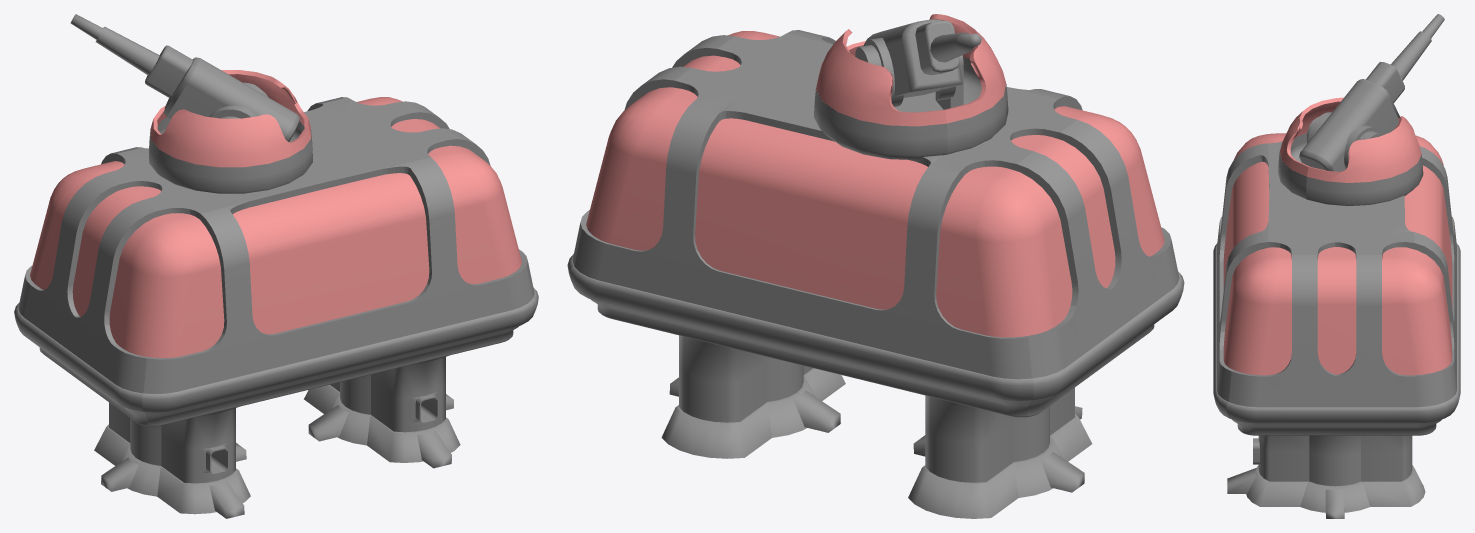
File: LaserStation_01.gltf
The picture shows the model from 3 angles, left to right: view 1: azimuth 30°, elevation 25°; view 2: azimuth 150°, elevation 25°; view 3: azimuth 270°, elevation 25°; orthographic projection. The views are drawn at different scales.
Parts seen in each view (by area): view 1: LaserStation_01; view 2: LaserStation_01; view 3: LaserStation_01.
Boxes of the visible parts, bbox=[...] form: LaserStation_01: bbox=[14, 14, 538, 518]; LaserStation_01: bbox=[567, 14, 1184, 518]; LaserStation_01: bbox=[1213, 14, 1460, 518].
Size of the model in its own units: 14.28 by 13.77 by 8.29.
